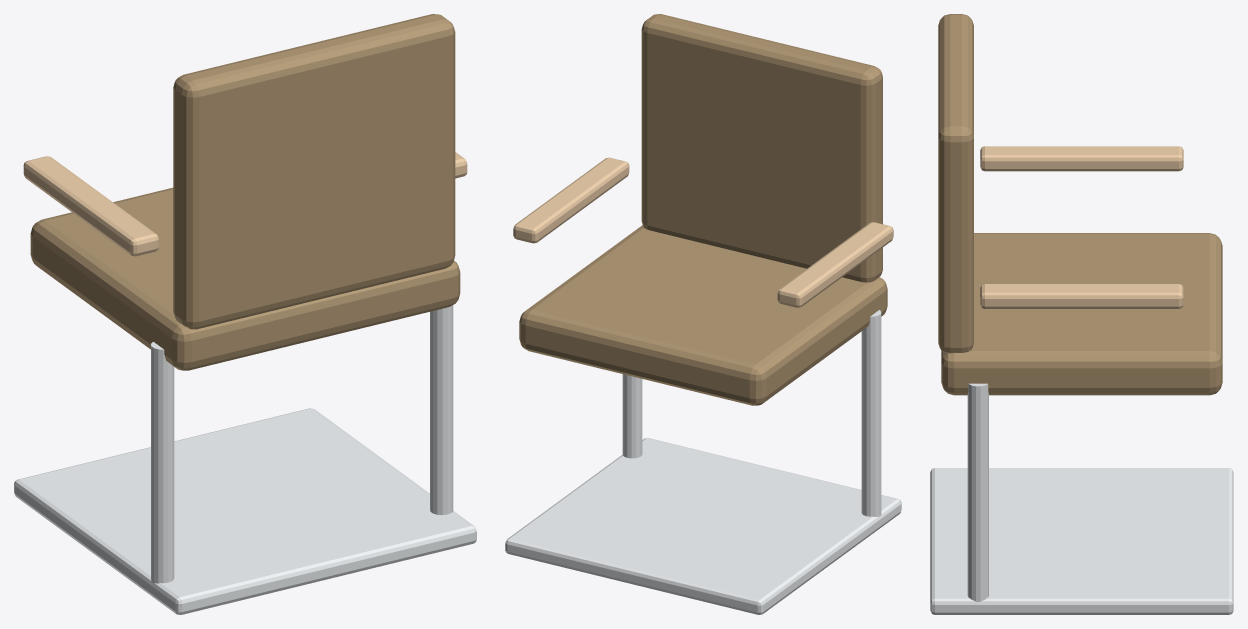
File: office_lounge_seating_reference_board_50.glb
3 views of the same model, side by side, from view 1: azimuth 30°, elevation 25°; view 2: azimuth 150°, elevation 25°; view 3: azimuth 270°, elevation 25° (orthographic). The views are drawn at different scales.
Parts seen in each view (by area): view 1: Cube; view 2: Cube; view 3: Cube.
Part boxes in pixels (left/top/right/bottom): Cube: left=14, top=14, right=476, bottom=614; Cube: left=505, top=14, right=901, bottom=614; Cube: left=930, top=14, right=1233, bottom=614.
Bounding box in the file's own units: 0.596 × 0.885 × 0.5084.
